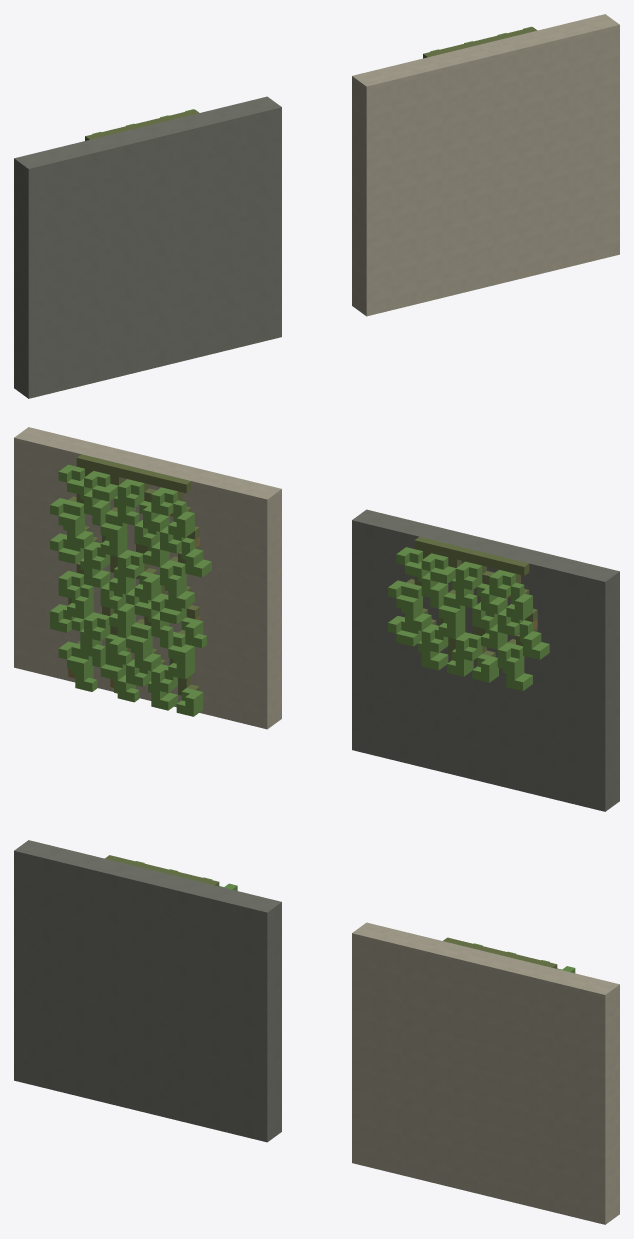
3 renders of one model, top to bottom at view 1: azimuth 30°, elevation 25°; view 2: azimuth 150°, elevation 25°; view 3: azimuth 330°, elevation 25°, orthographic.
Visible parts, largest first — view 1: 藤蔓实际附着的作者岩壁, 真实岩壁附壁垂藤组件 (×2); view 2: 藤蔓实际附着的作者岩壁, 真实岩壁附壁垂藤组件 (×2); view 3: 藤蔓实际附着的作者岩壁, 真实岩壁附壁垂藤组件 (×2).
Boxes of the visible parts, x1,y1,x2,y2 form: 藤蔓实际附着的作者岩壁: (14,14,619,398); 真实岩壁附壁垂藤组件 (×2): (85,26,537,140); 藤蔓实际附着的作者岩壁: (14,427,619,811); 真实岩壁附壁垂藤组件 (×2): (50,454,549,716); 藤蔓实际附着的作者岩壁: (14,840,619,1224); 真实岩壁附壁垂藤组件 (×2): (105,855,575,973).
Size of the model in its own units: 14 by 5.2 by 1.2.
5 materials, 5 textured.
